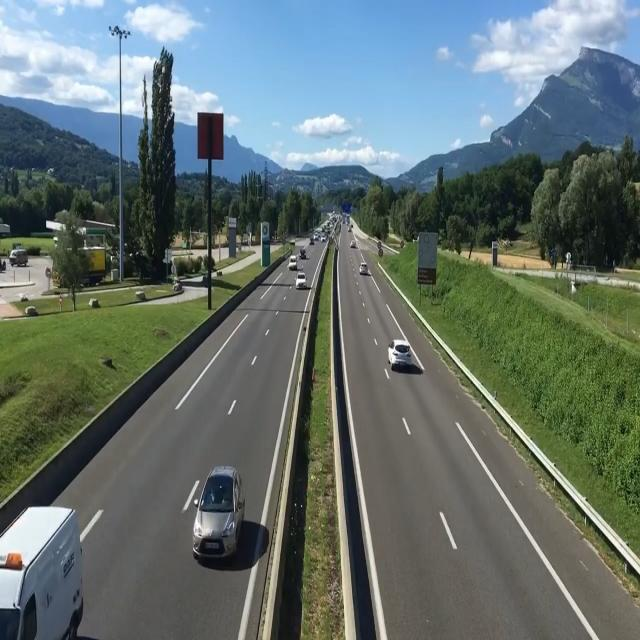car: (0, 504, 90, 638), (194, 463, 247, 575), (388, 336, 422, 376), (293, 272, 309, 292), (359, 260, 369, 276)
